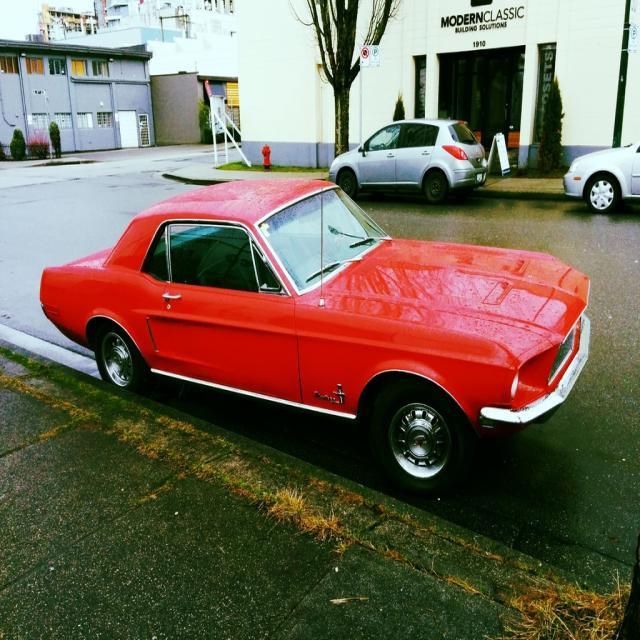car: (37, 85, 590, 491), (326, 110, 490, 202)
